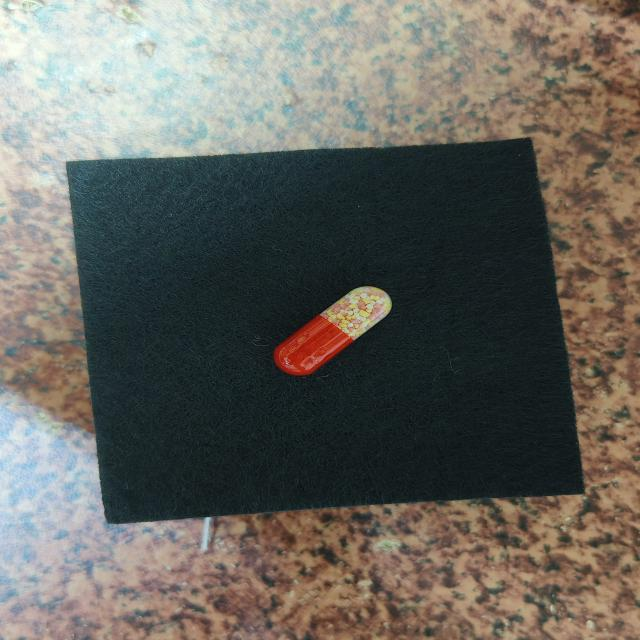Intact Capsule: (273, 286, 392, 375)
